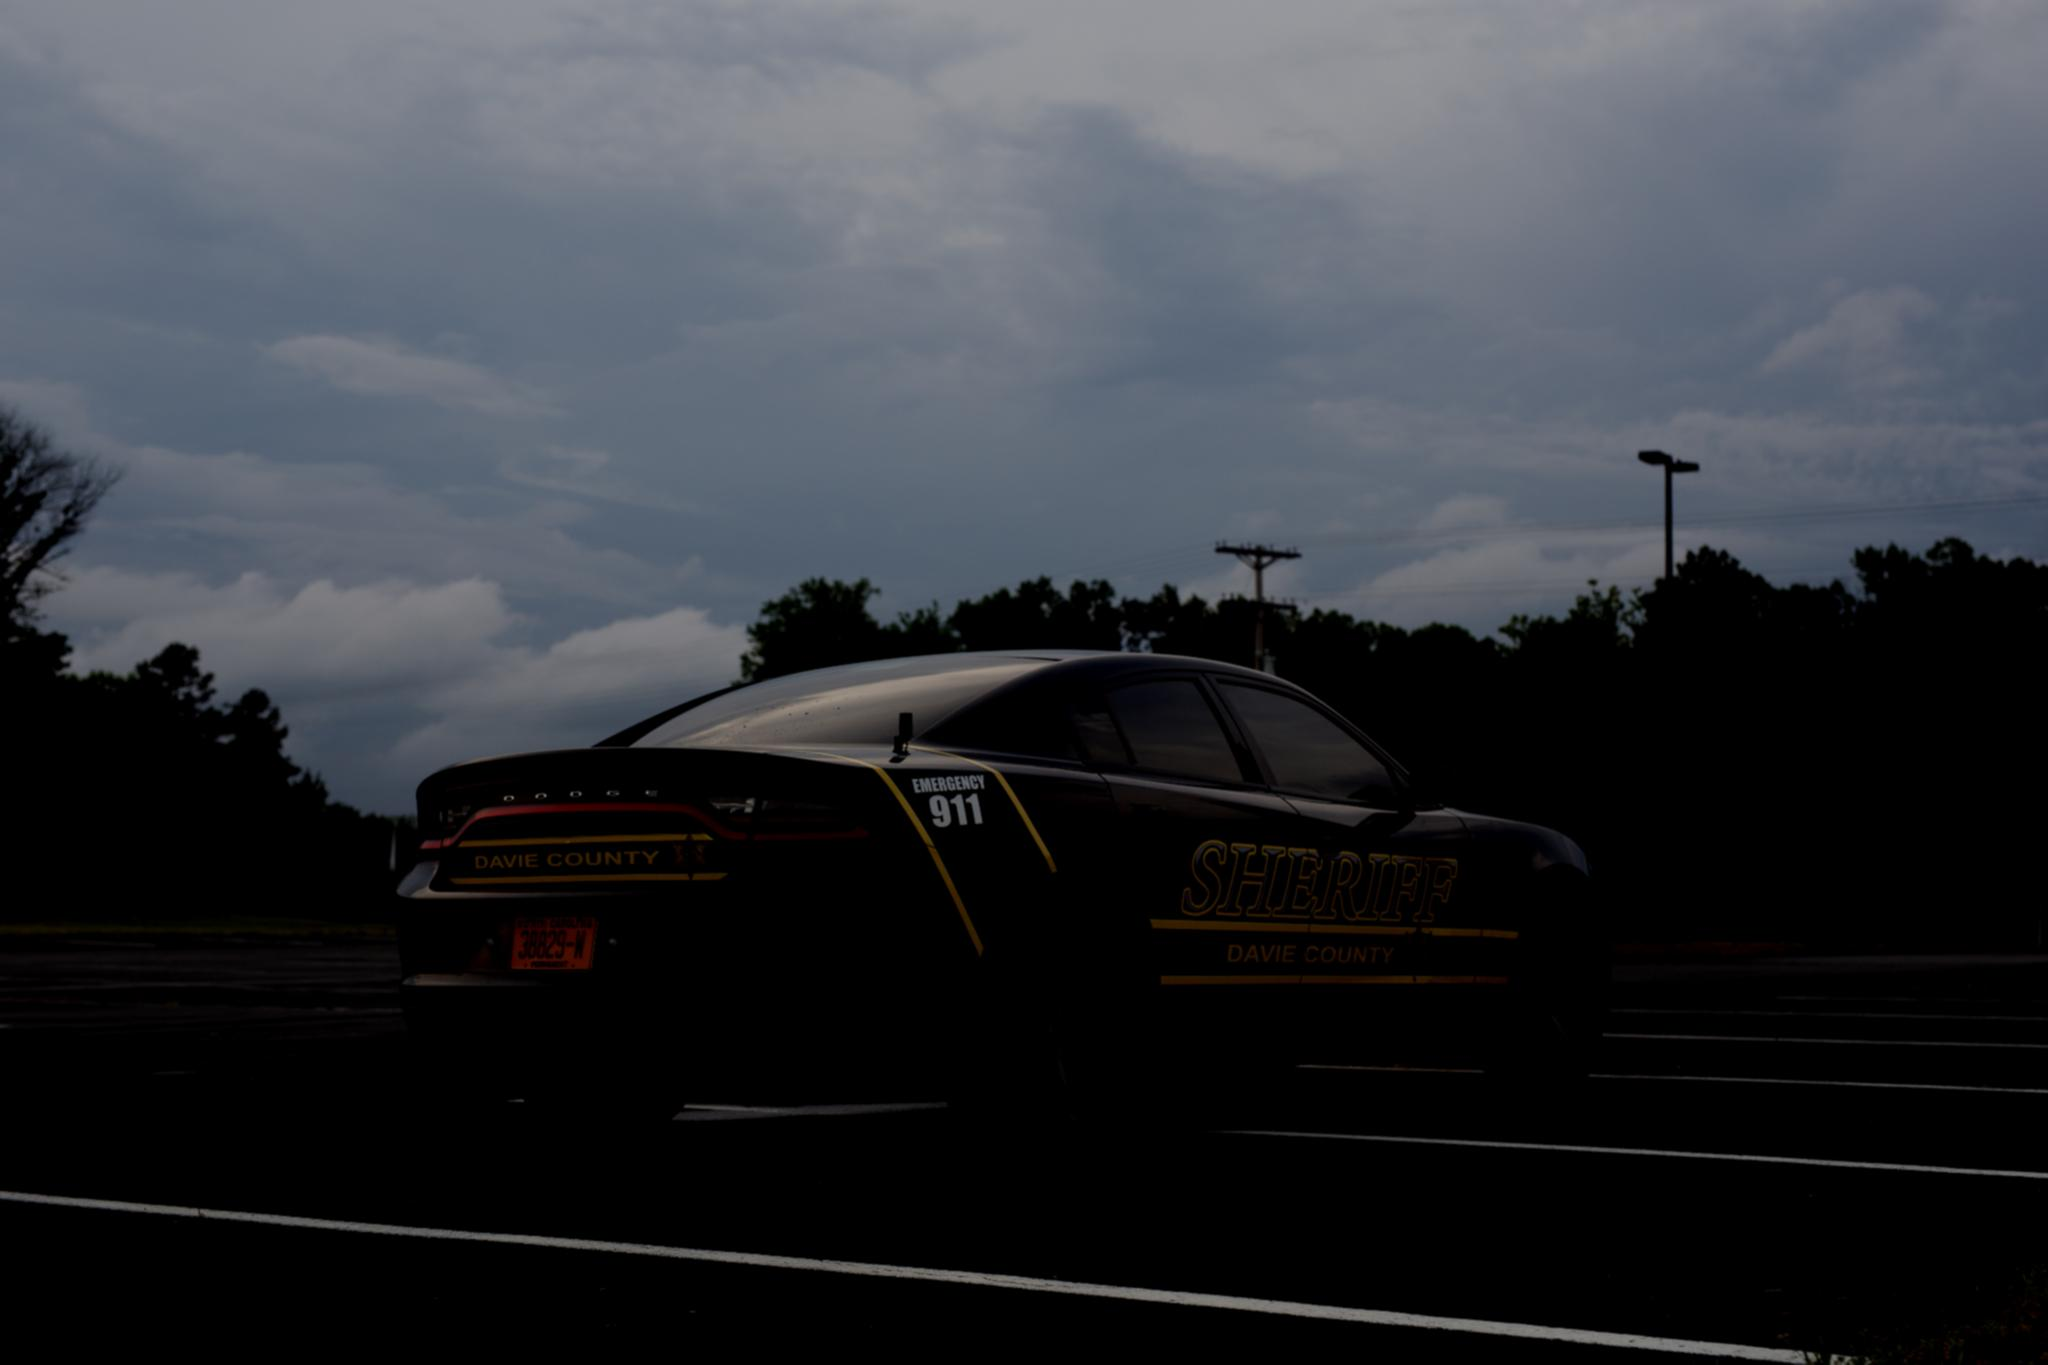dodge: (496, 772, 673, 815)
